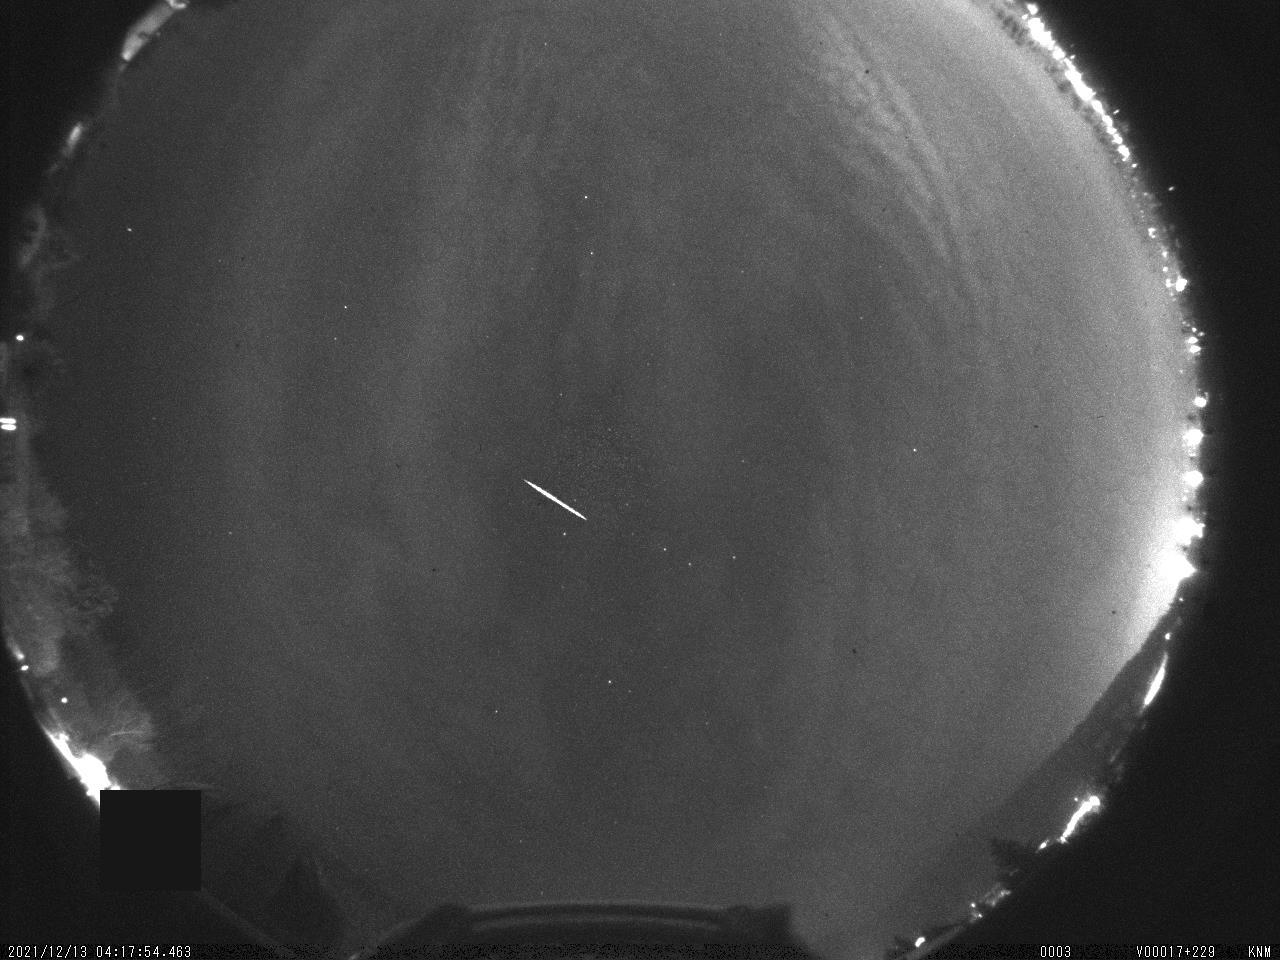meteor: (519, 469, 610, 542)
